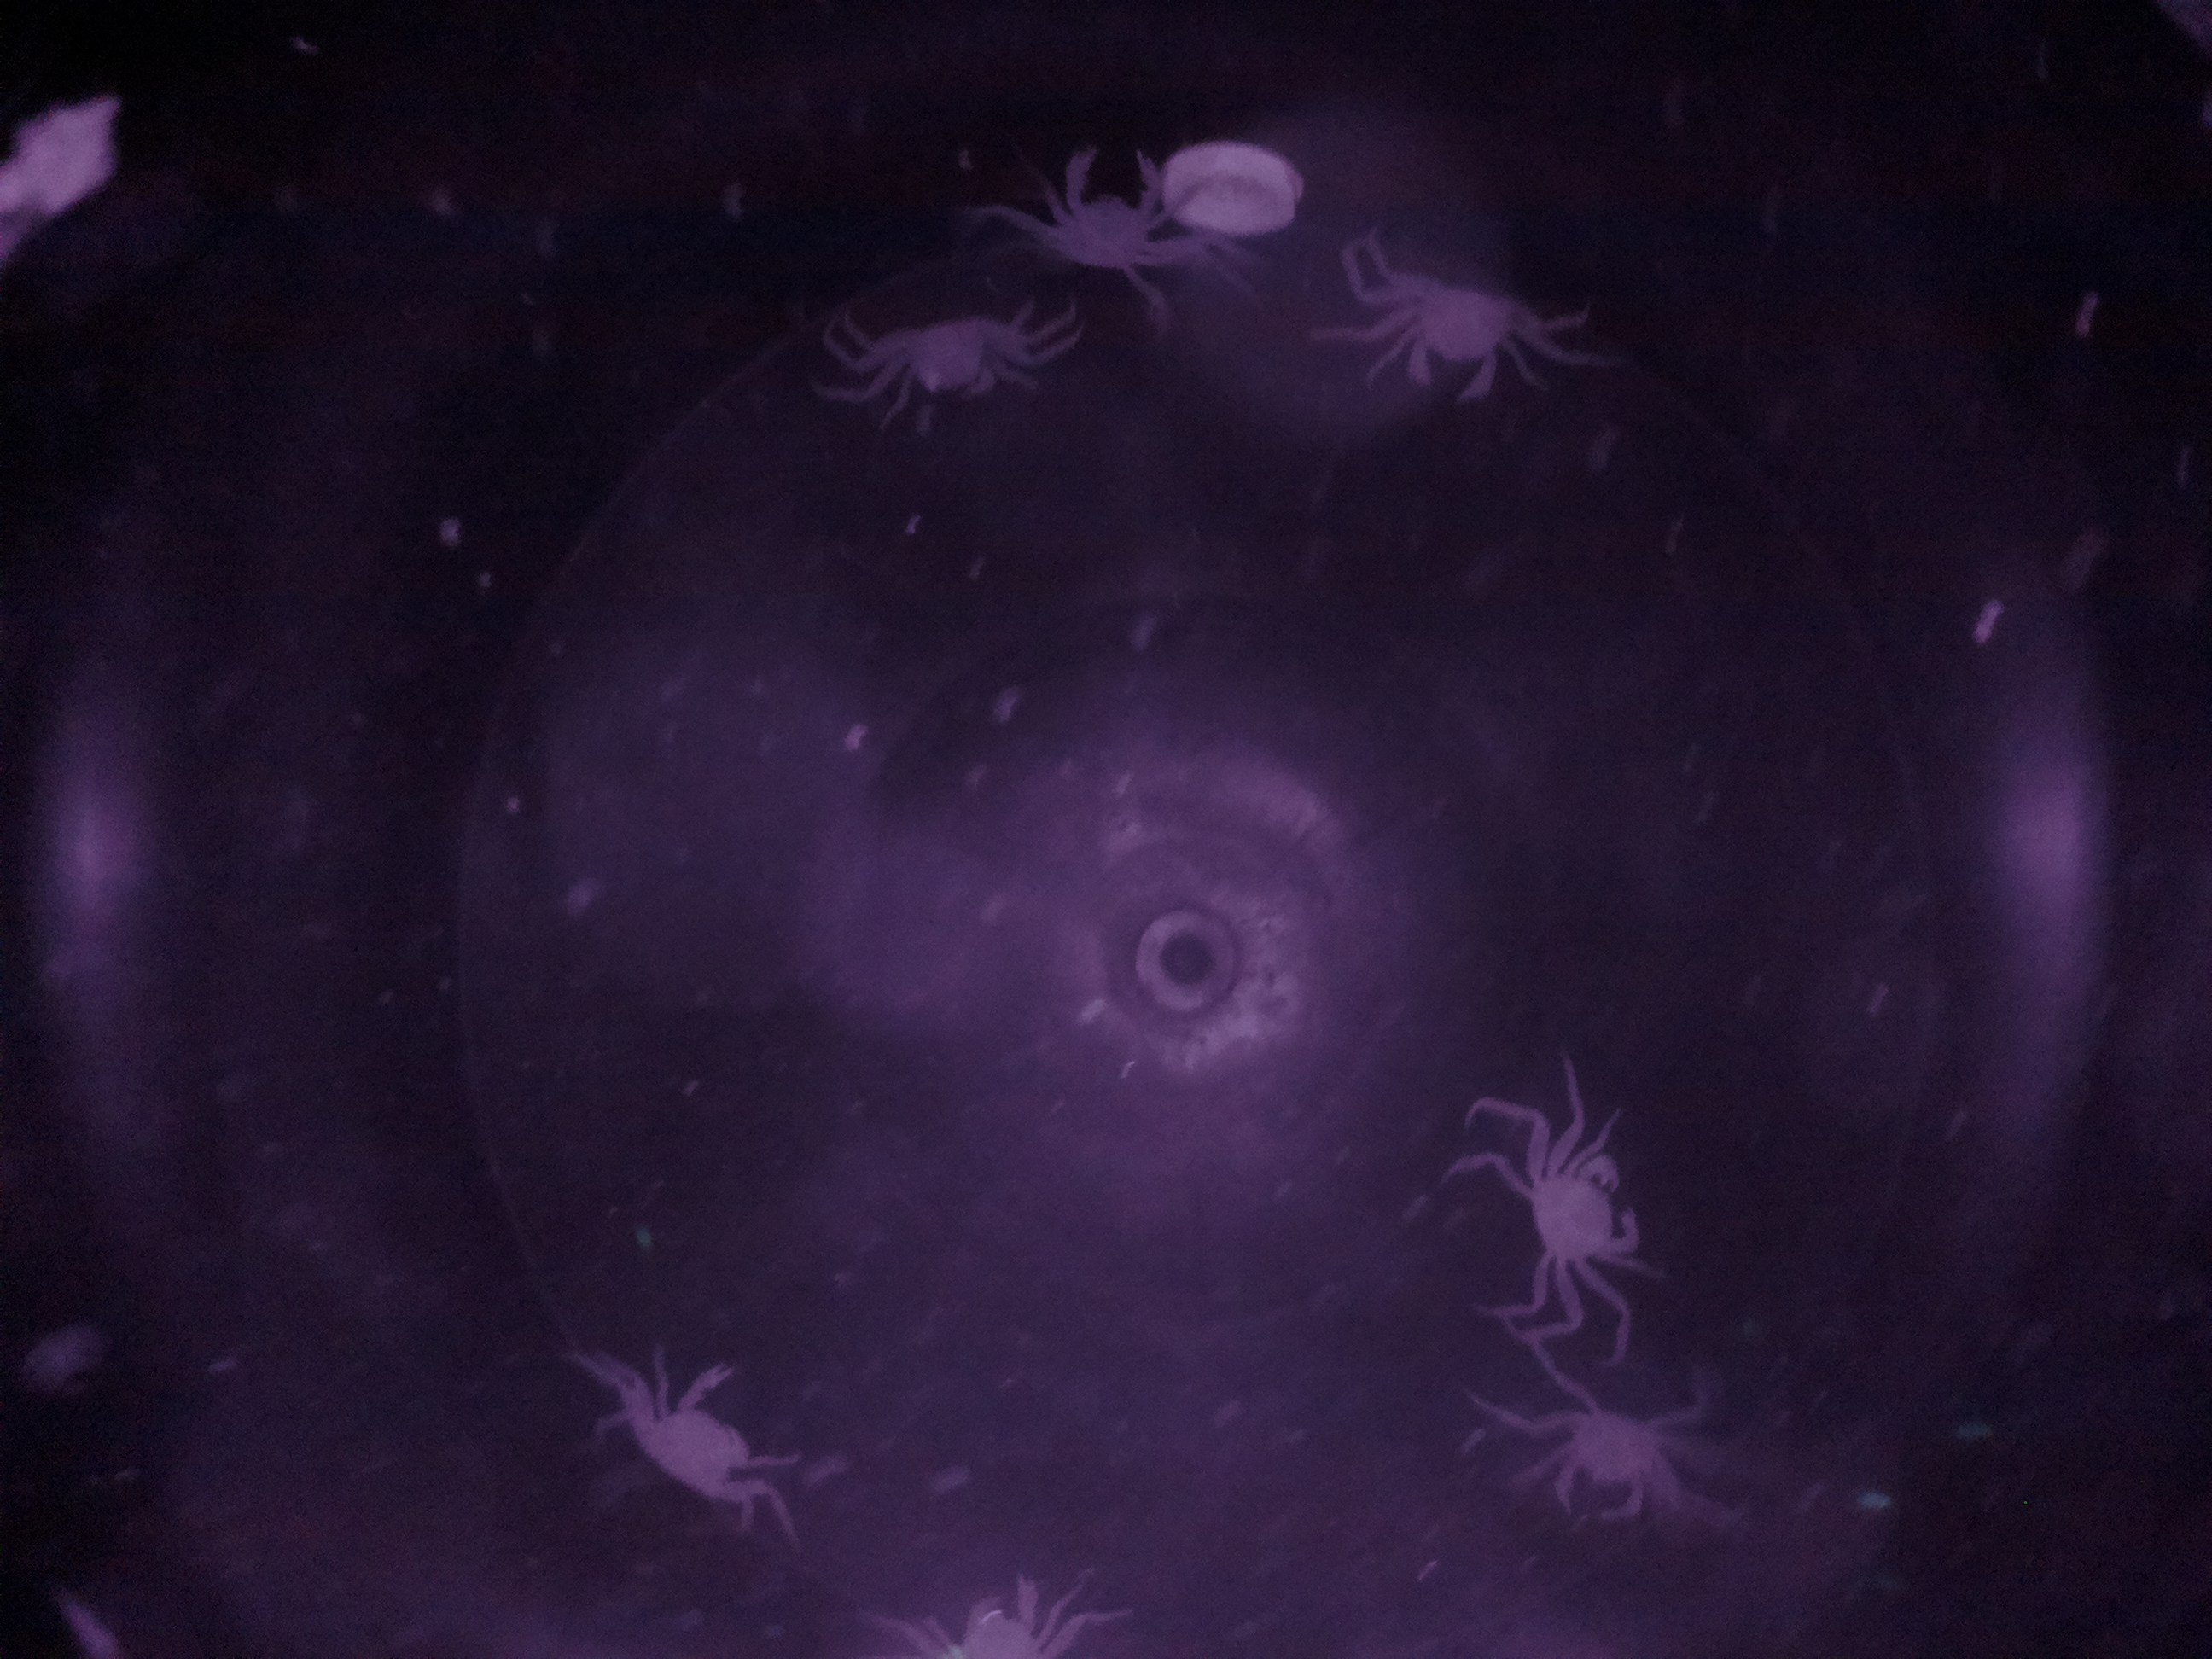Crab: (601, 1342, 813, 1537), (1348, 253, 1575, 415), (1005, 129, 1219, 298), (1510, 1370, 1710, 1537), (1505, 1110, 1660, 1307), (852, 301, 1042, 423)
